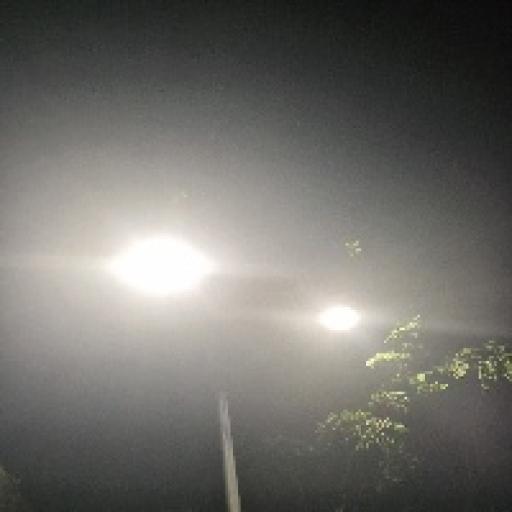Working: (93, 224, 232, 317), (310, 295, 370, 345)
